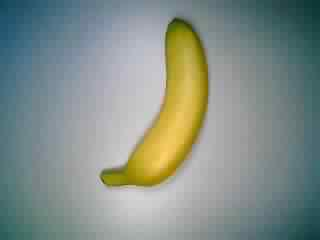banana: (96, 18, 215, 194)
